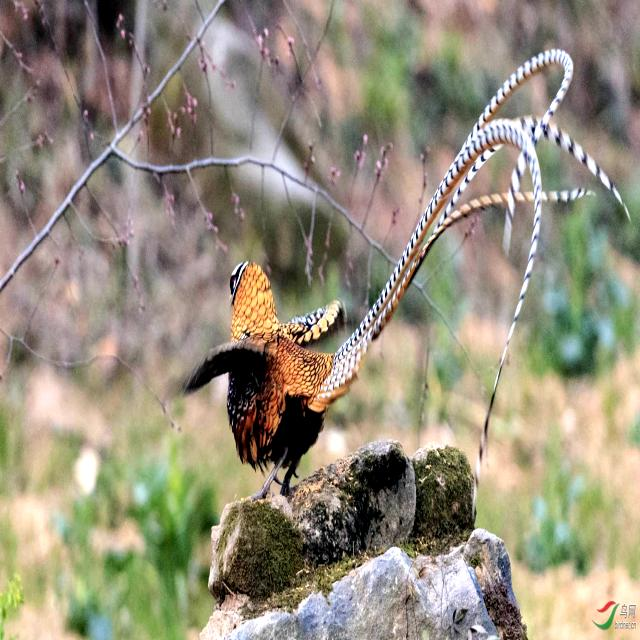Reeves-s Pheasant: (310, 49, 629, 479)
